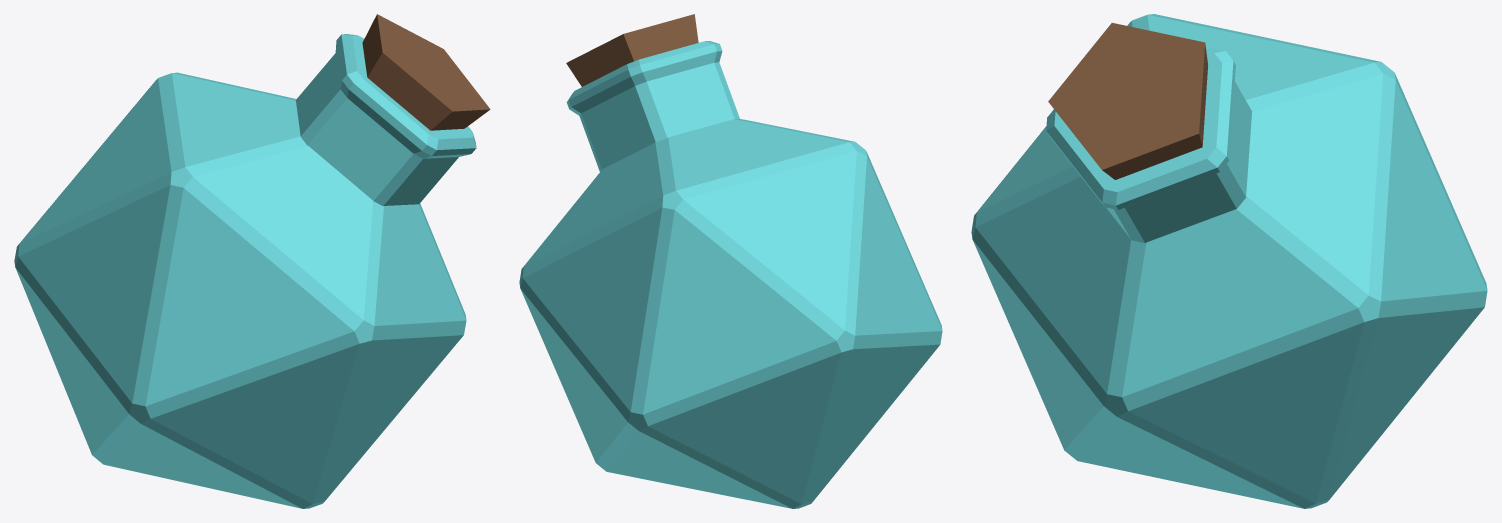
File: Potion_03_Blue.fbx
3 renders of one model, left to right at view 1: azimuth 30°, elevation 25°; view 2: azimuth 150°, elevation 25°; view 3: azimuth 270°, elevation 25°, orthographic. The views are drawn at different scales.
Parts seen in each view (by area): view 1: Icosphere.008, Cylinder.052, Cylinder.053; view 2: Icosphere.008, Cylinder.052, Cylinder.053; view 3: Icosphere.008, Cylinder.053, Cylinder.052.
Boxes of the visible parts, x1,y1,x2,y2 form: Icosphere.008: [14, 72, 466, 508]; Cylinder.052: [295, 34, 476, 206]; Cylinder.053: [362, 14, 490, 130]; Icosphere.008: [519, 119, 942, 508]; Cylinder.052: [566, 41, 739, 171]; Cylinder.053: [566, 14, 698, 86]; Icosphere.008: [971, 14, 1487, 508]; Cylinder.053: [1048, 23, 1208, 179]; Cylinder.052: [1046, 46, 1251, 242].
Bounding box in the file's own units: 22.22 × 24.31 × 23.44.
